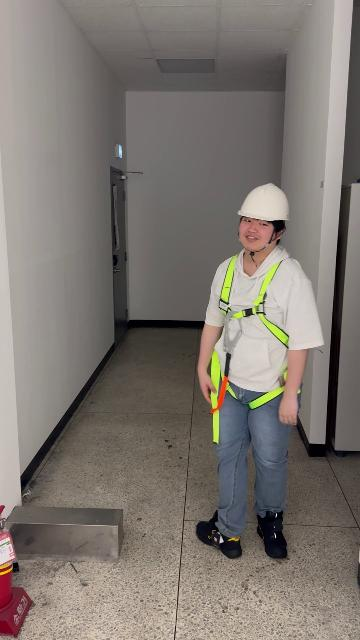helmet_worn: (236, 181, 291, 222)
shoe_worn: (196, 510, 242, 558), (257, 511, 287, 559)
vest_worn: (204, 252, 300, 435)
